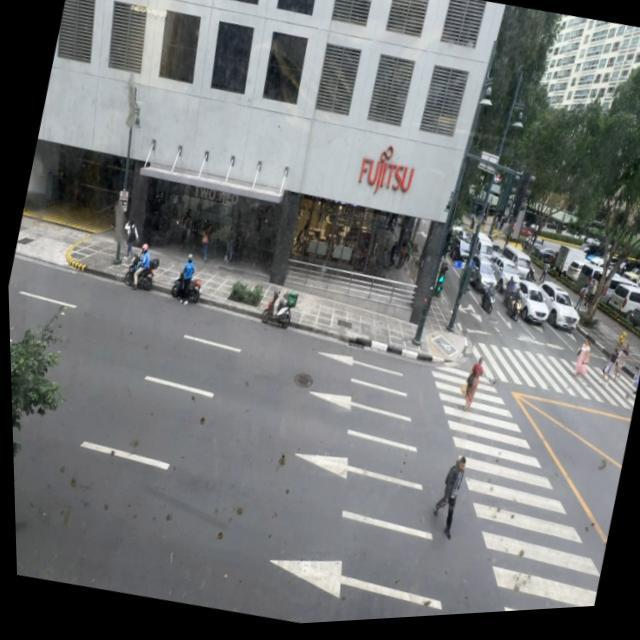jaywalking: (423, 447, 478, 547)
